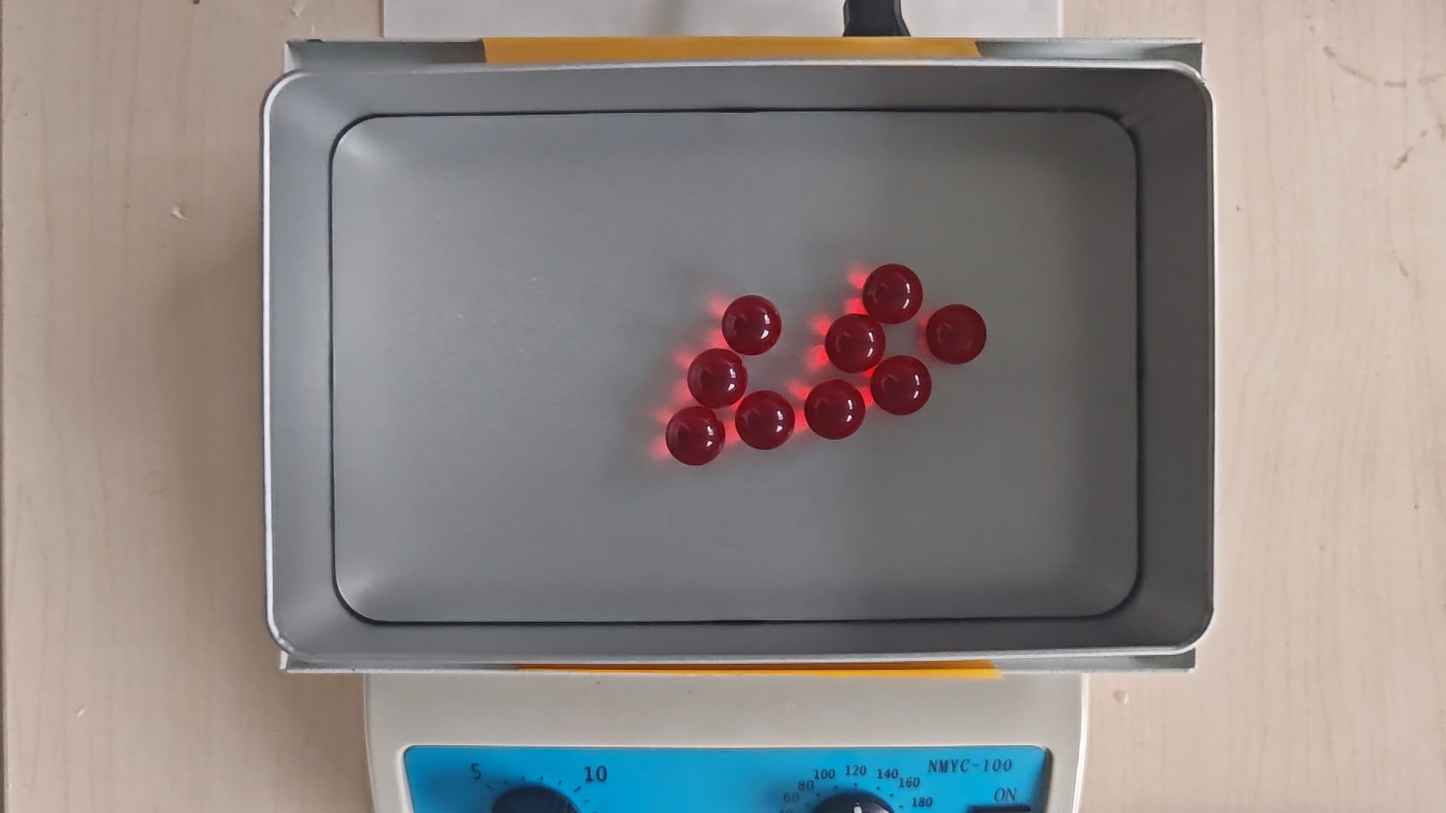ball: (871, 355, 934, 417), (926, 303, 988, 365), (805, 379, 866, 441), (825, 313, 885, 375), (722, 295, 782, 355), (863, 263, 922, 324), (666, 406, 725, 467), (737, 390, 795, 451), (687, 349, 746, 408)
container: (331, 110, 1139, 622)
